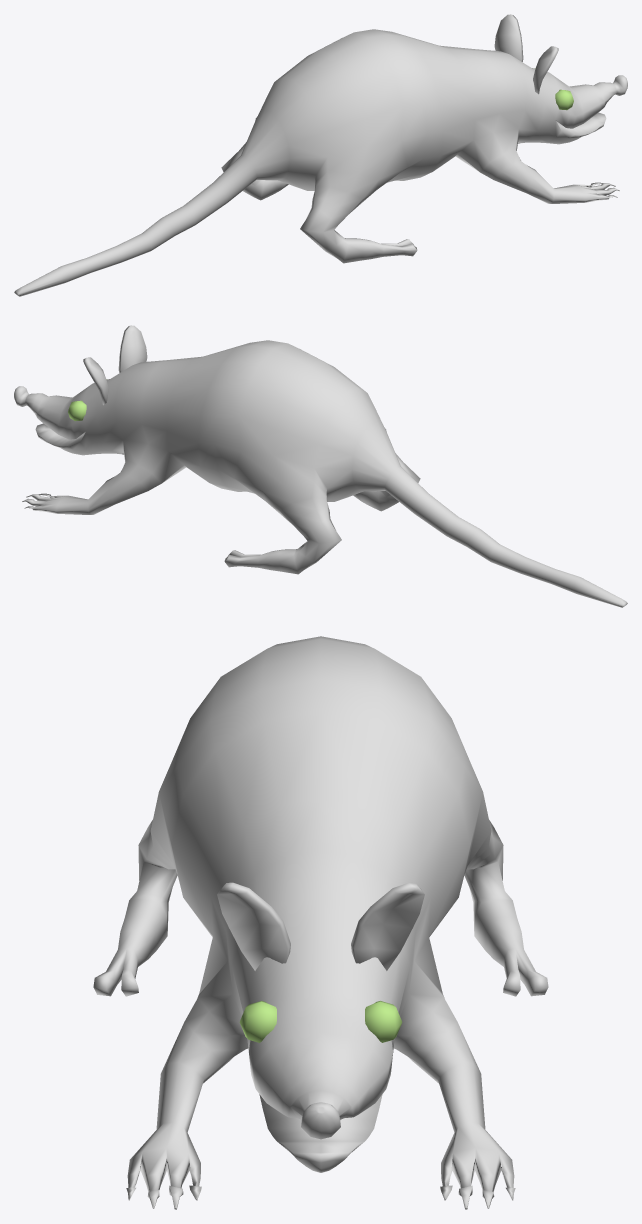
Rendered from Rat_NPC_Model.fbx.
The picture shows the model from 3 angles, top to bottom: view 1: azimuth 30°, elevation 25°; view 2: azimuth 150°, elevation 25°; view 3: azimuth 270°, elevation 25°; orthographic projection. The views are drawn at different scales.
Visible parts, largest first — view 1: Cylinder.007, Plane.002, Plane.001; view 2: Cylinder.007, Plane.001, Plane.002; view 3: Cylinder.007, Plane.001, Plane.002, Cube, Cube.001.
Boxes of the visible parts, x1,y1,x2,y2 form: Cylinder.007: (14,29,627,296); Plane.002: (494,14,523,61); Plane.001: (533,46,558,94); Cylinder.007: (14,340,627,607); Plane.001: (118,325,147,372); Plane.002: (83,357,108,405); Cylinder.007: (93,636,548,1209); Plane.001: (217,882,290,970); Plane.002: (351,882,424,970); Cube: (239,1001,276,1042); Cube.001: (365,1001,402,1042).
Bounding box in the file's own units: 1473 × 404 × 475.
